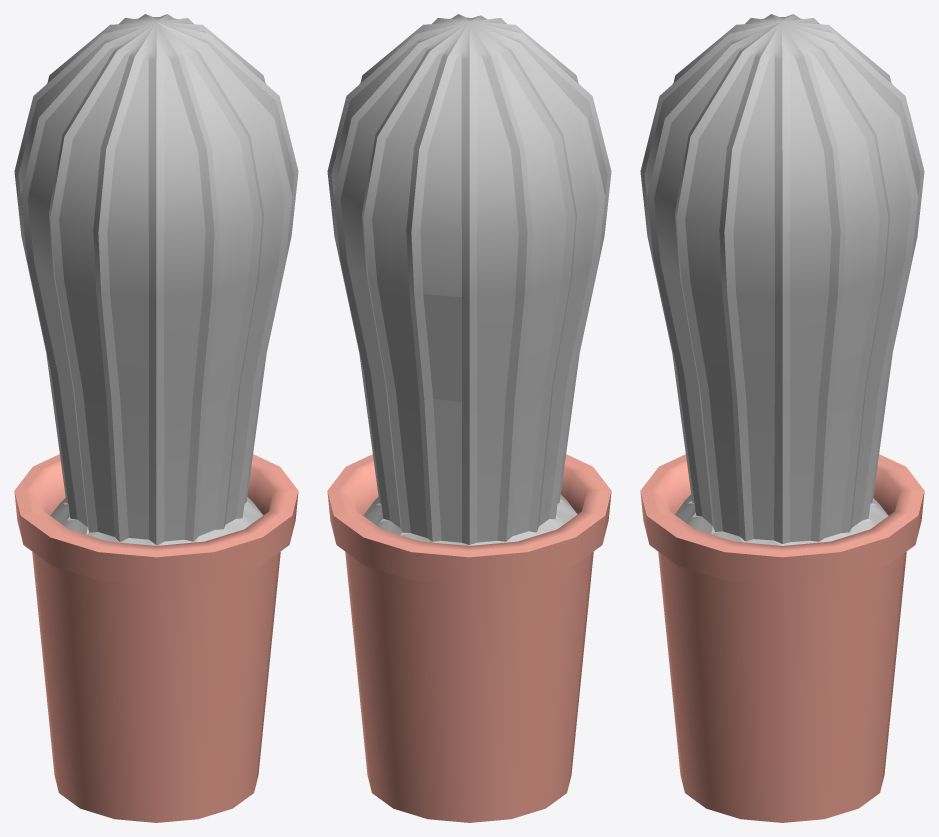
The model's file is cactuse_02.FBX.
3 renders of one model, left to right at view 1: azimuth 30°, elevation 25°; view 2: azimuth 150°, elevation 25°; view 3: azimuth 270°, elevation 25°, orthographic.
Parts seen in each view (by area): view 1: Cylinder010; view 2: Cylinder010; view 3: Cylinder010.
Boxes of the visible parts, box(x1,y1,x2,y2) form: Cylinder010: box(14, 14, 298, 822); Cylinder010: box(327, 14, 611, 822); Cylinder010: box(640, 14, 924, 822).
Size of the model in its own units: 44.28 by 131 by 44.53.
